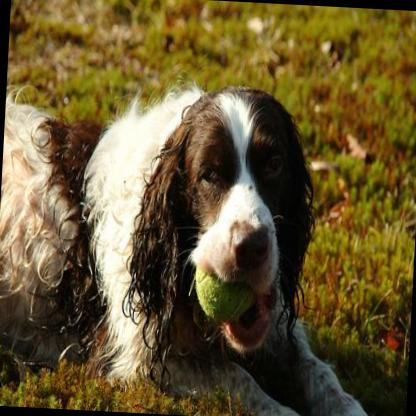English_springer: (0, 69, 401, 416)
